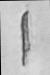M17: (4, 0, 46, 74)
